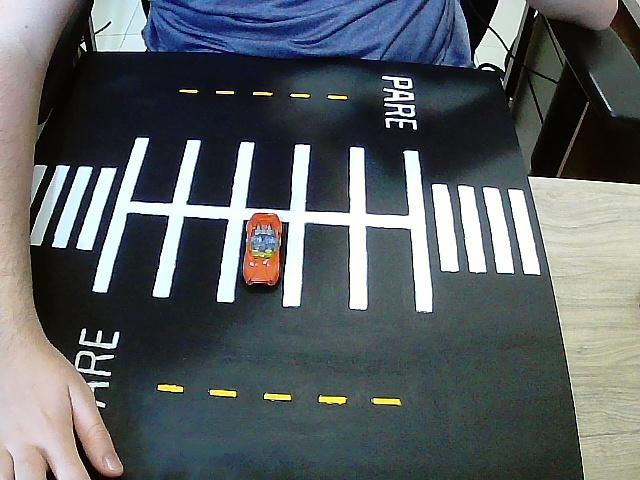Carro: (242, 213, 280, 289)
